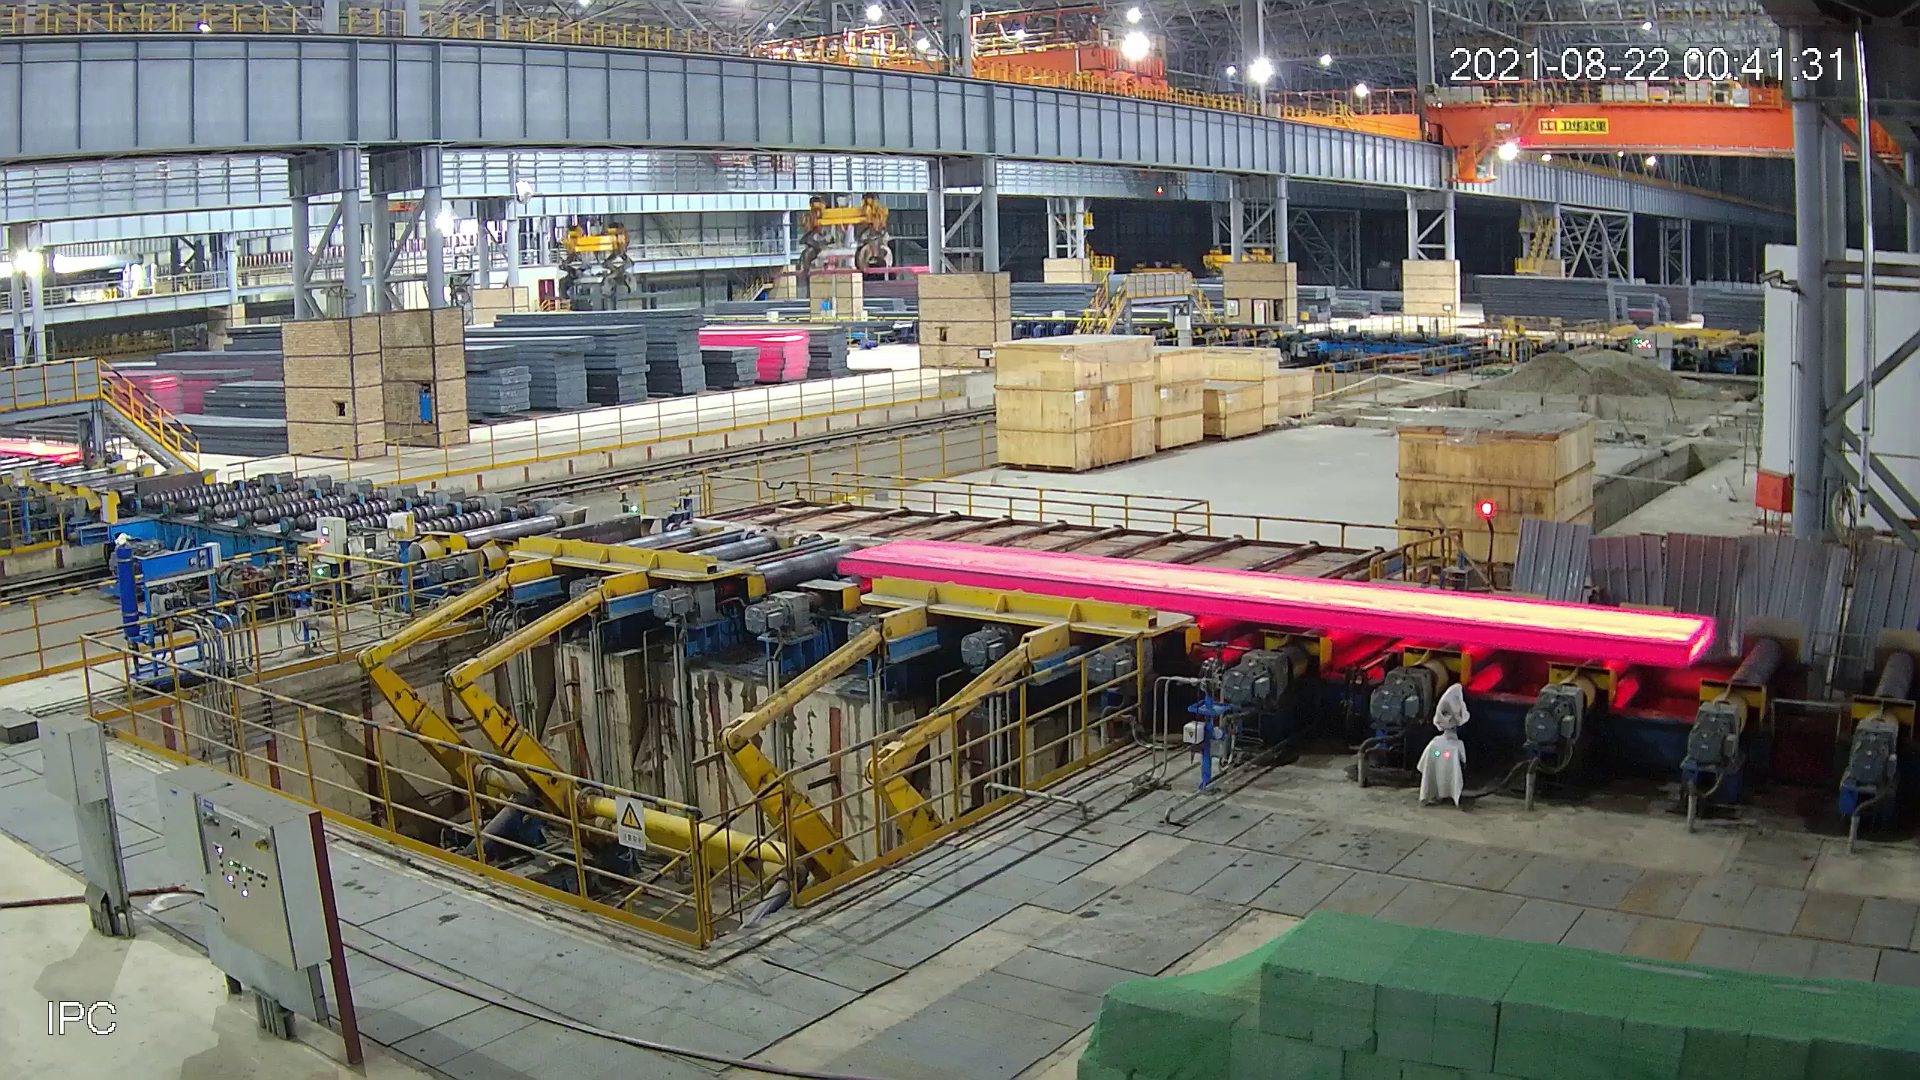slab: (832, 527, 1714, 675)
